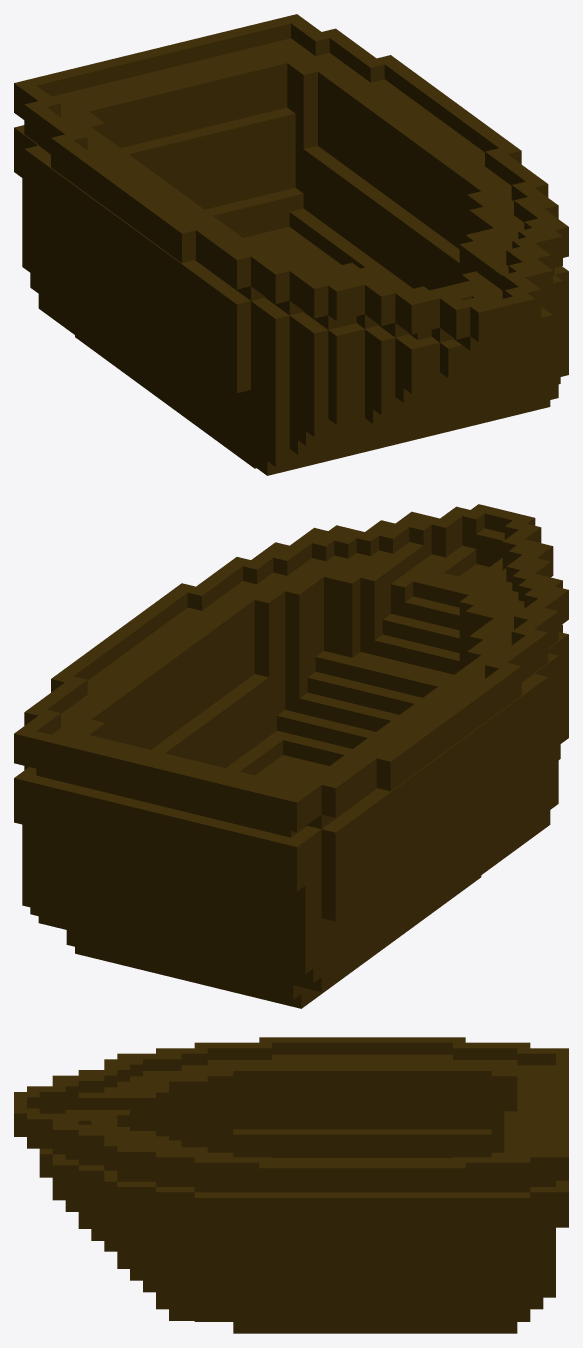
File: Boat.fbx
3 renders of one model, top to bottom at view 1: azimuth 30°, elevation 25°; view 2: azimuth 150°, elevation 25°; view 3: azimuth 270°, elevation 25°, orthographic. The views are drawn at different scales.
Parts seen in each view (by area): view 1: Boat; view 2: Boat; view 3: Boat.
Boxes of the visible parts, x1,y1,x2,y2 form: Boat: (14,14,568,475); Boat: (14,504,568,1008); Boat: (14,1037,568,1333).
Size of the model in its own units: 24 by 16 by 43.
